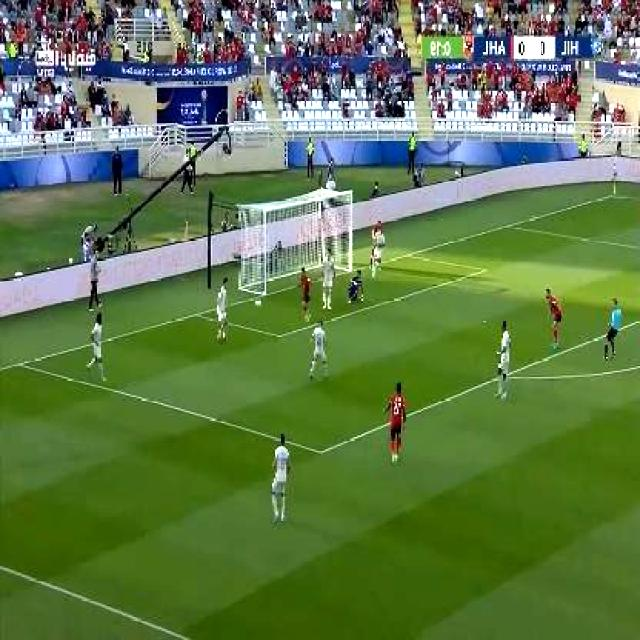bigarea_bottom_inner: (312, 439, 332, 463)
bigarea_bottom_outter: (12, 352, 31, 374)
bigarea_top_outter: (503, 217, 519, 232)
bottom_arc_area_intersection: (497, 366, 512, 386)
corner: (608, 186, 626, 200)
smallarea_bottom_inner: (272, 324, 290, 344)
smallarea_bottom_outter: (190, 303, 208, 322)
smallarea_top_inner: (477, 260, 494, 277)
smallarea_top_outter: (403, 244, 419, 262)
